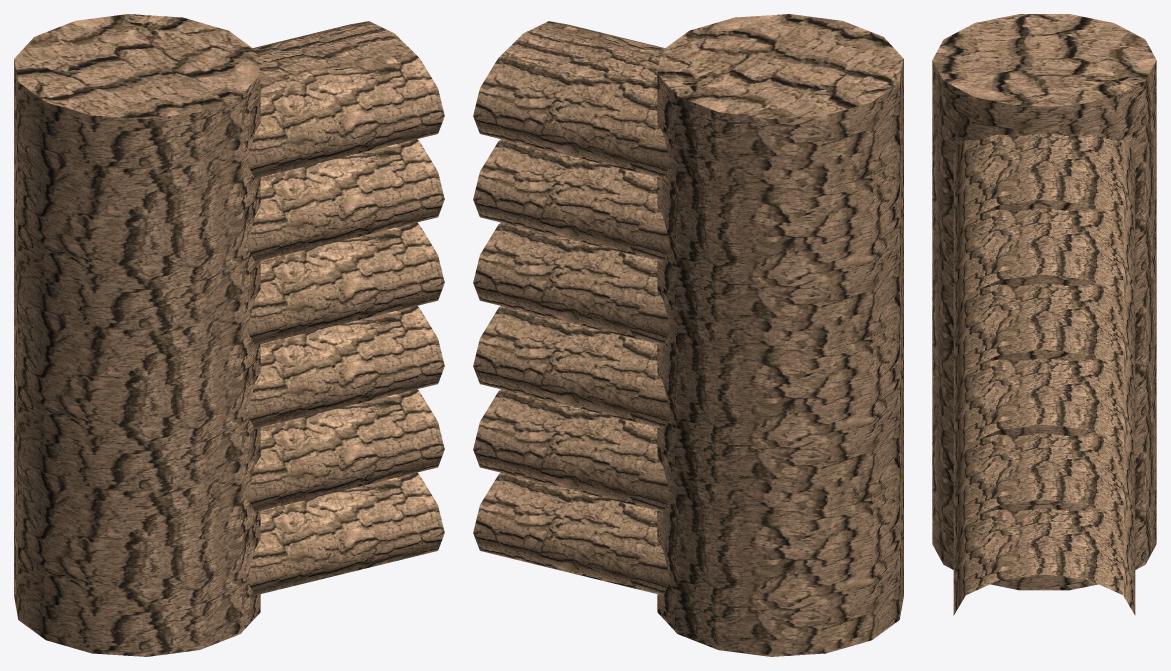
Rendered from log_wall.glb.
3 renders of one model, left to right at view 1: azimuth 30°, elevation 25°; view 2: azimuth 150°, elevation 25°; view 3: azimuth 270°, elevation 25°, orthographic. The views are drawn at different scales.
Visible parts, largest first — view 1: prop (×2); view 2: prop (×2); view 3: prop (×2).
Part boxes in pixels (box(x1,y1,x2,y2)): prop (×2): box(14, 14, 444, 656); prop (×2): box(473, 14, 903, 656); prop (×2): box(932, 14, 1156, 615).
Bounding box in the file's own units: 0.7047 × 1 × 0.42.
Materials: 2 (2 with a texture image).
